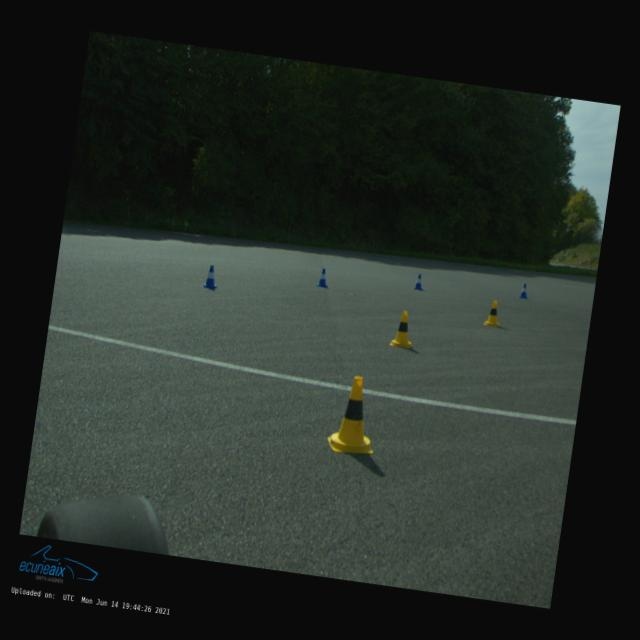blue_cone: (203, 264, 220, 290), (316, 268, 331, 288), (414, 274, 426, 290), (519, 283, 529, 299)
yellow_cone: (326, 374, 384, 456), (389, 310, 416, 348), (483, 299, 504, 328)
